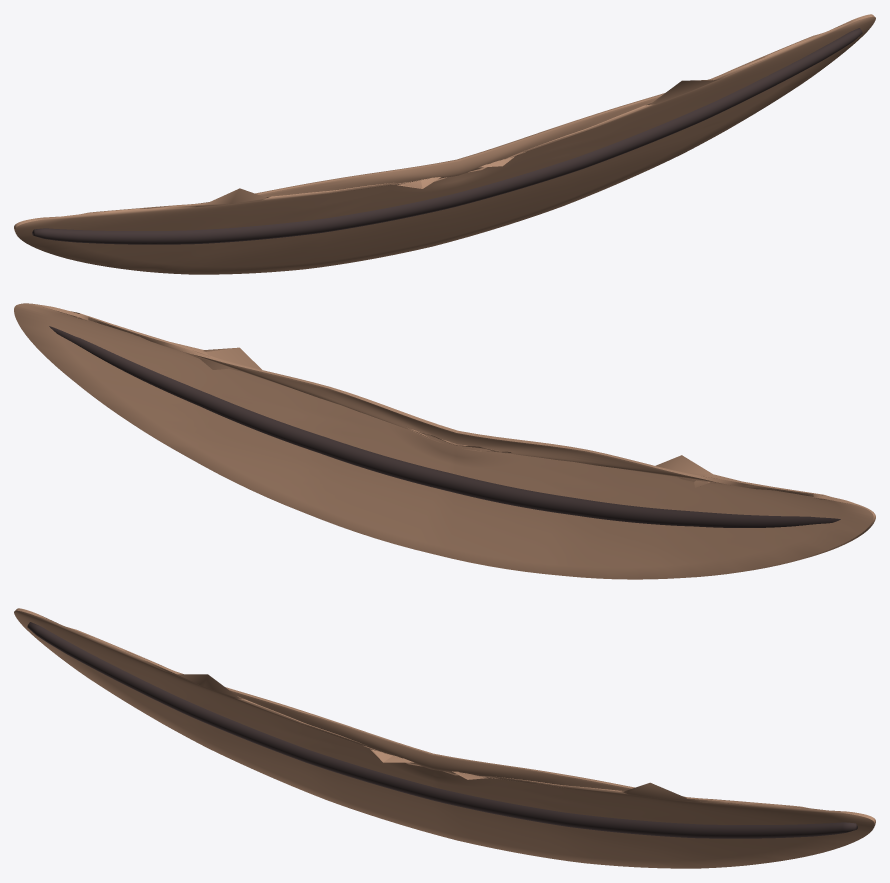
File: Masculine-mouth-lips.glb
3 views of the same model, one above another, from view 1: azimuth 30°, elevation 25°; view 2: azimuth 150°, elevation 25°; view 3: azimuth 330°, elevation 25° (orthographic).
Visible parts, largest first — view 1: Face / closed mouth185, Face / closed seam185; view 2: Face / closed mouth185, Face / closed seam185; view 3: Face / closed mouth185, Face / closed seam185.
Part boxes in pixels (left/top/right/bottom): Face / closed mouth185: left=14, top=14, right=875, bottom=274; Face / closed seam185: left=32, top=28, right=862, bottom=244; Face / closed mouth185: left=14, top=303, right=875, bottom=579; Face / closed seam185: left=49, top=326, right=840, bottom=527; Face / closed mouth185: left=14, top=608, right=875, bottom=868; Face / closed seam185: left=27, top=622, right=857, bottom=838.
Size of the model in its own units: 0.1783 by 0.0274 by 0.0121.
